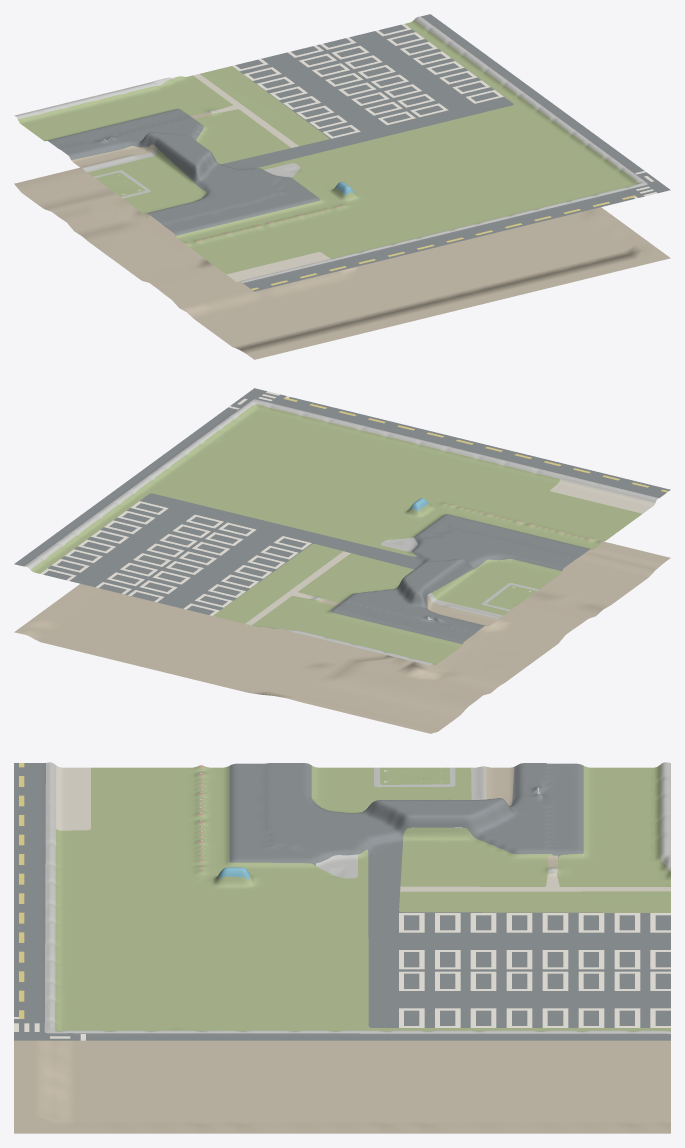
3 views of the same model, one above another, from view 1: azimuth 30°, elevation 25°; view 2: azimuth 150°, elevation 25°; view 3: azimuth 270°, elevation 25° (orthographic). The views are drawn at different scales.
Parts seen in each view (by area): view 1: s_-9_3__grass, s_-9_3__soil, s_-9_3__asphalt, s_-9_3__white_marking, s_-9_3__stone_paving, s_-9_3__paving, s_-9_3__yellow_marking; view 2: s_-9_3__grass, s_-9_3__soil, s_-9_3__asphalt, s_-9_3__white_marking, s_-9_3__stone_paving, s_-9_3__paving, s_-9_3__yellow_marking; view 3: s_-9_3__grass, s_-9_3__asphalt, s_-9_3__soil, s_-9_3__white_marking, s_-9_3__stone_paving, s_-9_3__paving, s_-9_3__yellow_marking.
Part boxes in pixels (x1=…): s_-9_3__grass: x1=18, y1=20, x2=638, y2=274; s_-9_3__soil: x1=14, y1=111, x2=670, y2=359; s_-9_3__asphalt: x1=47, y1=14, x2=670, y2=291; s_-9_3__white_marking: x1=232, y1=24, x2=657, y2=198; s_-9_3__stone_paving: x1=14, y1=16, x2=647, y2=282; s_-9_3__paving: x1=98, y1=74, x2=330, y2=282; s_-9_3__yellow_marking: x1=251, y1=195, x2=635, y2=290; s_-9_3__grass: x1=31, y1=404, x2=642, y2=664; s_-9_3__soil: x1=14, y1=513, x2=670, y2=733; s_-9_3__asphalt: x1=14, y1=388, x2=670, y2=644; s_-9_3__white_marking: x1=40, y1=391, x2=311, y2=615; s_-9_3__stone_paving: x1=24, y1=399, x2=658, y2=665; s_-9_3__paving: x1=245, y1=479, x2=655, y2=625; s_-9_3__yellow_marking: x1=283, y1=397, x2=668, y2=492; s_-9_3__grass: x1=55, y1=764, x2=670, y2=1031; s_-9_3__asphalt: x1=14, y1=763, x2=670, y2=1040; s_-9_3__soil: x1=14, y1=766, x2=670, y2=1133; s_-9_3__white_marking: x1=14, y1=913, x2=670, y2=1040; s_-9_3__stone_paving: x1=44, y1=762, x2=670, y2=1033; s_-9_3__paving: x1=56, y1=765, x2=670, y2=891; s_-9_3__yellow_marking: x1=19, y1=763, x2=24, y2=1018.
Bounding box in the file's own units: 128 × 24.15 × 128.
